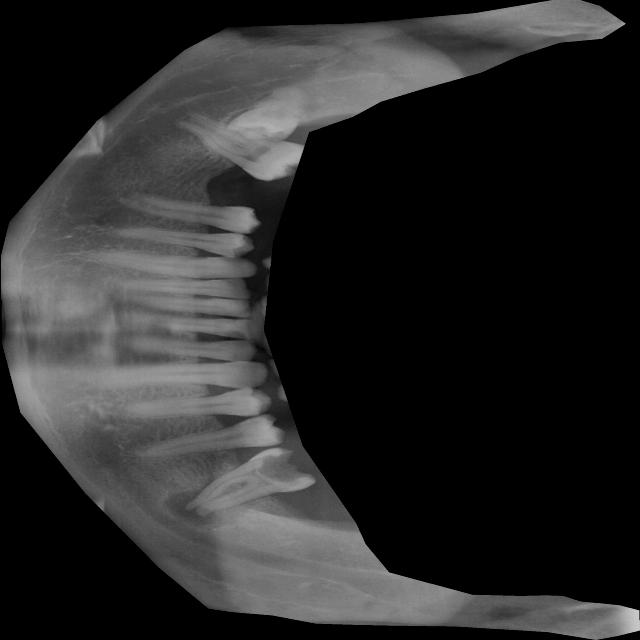mandibula: (0, 0, 639, 640)
